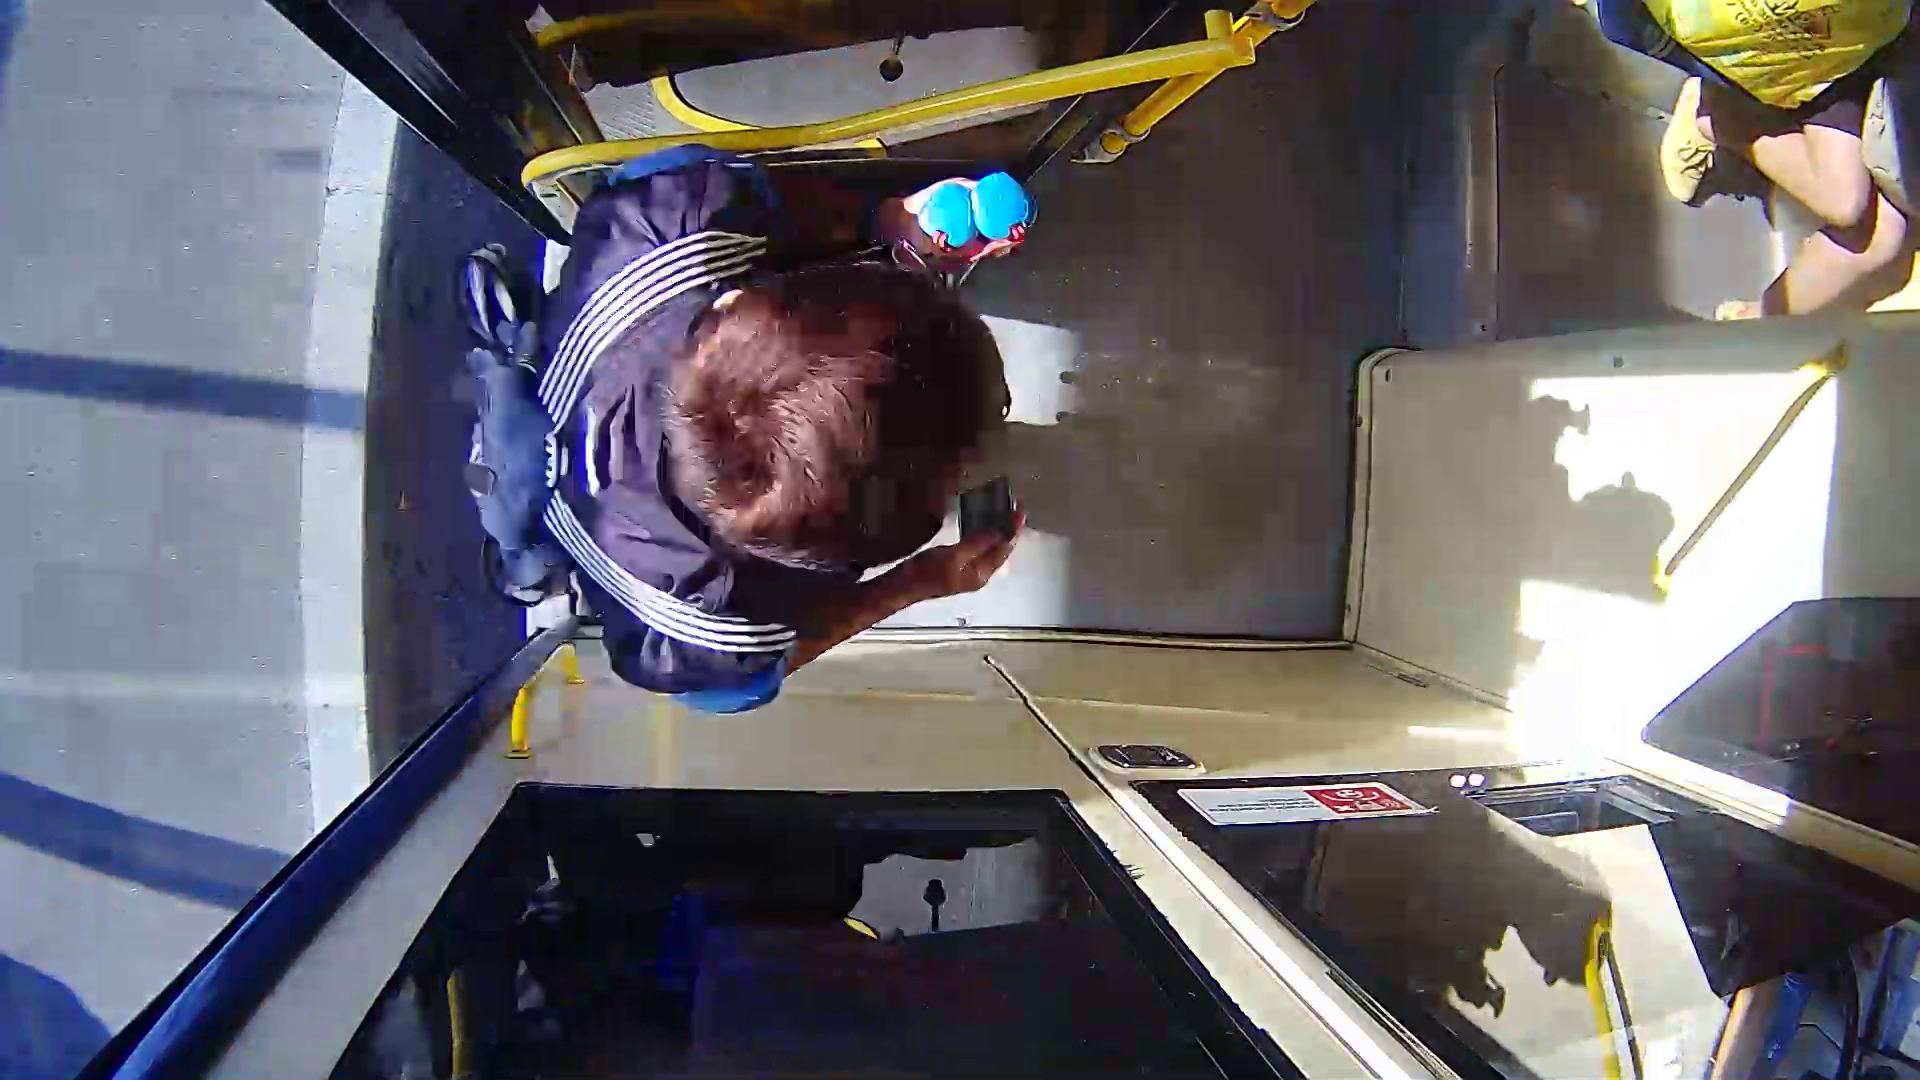person: (433, 158, 1120, 664)
